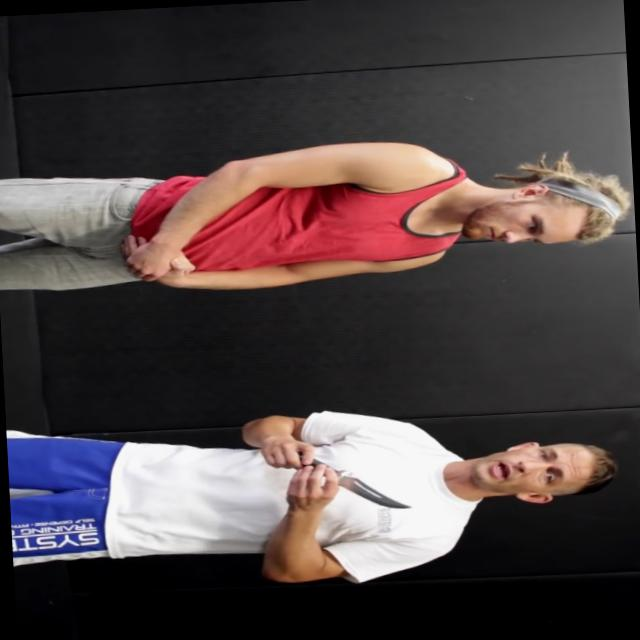knife: (292, 444, 424, 520)
